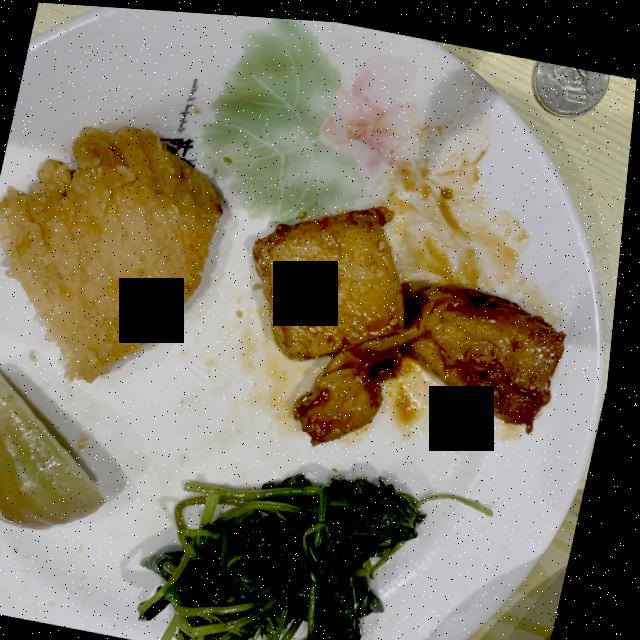coin: (532, 53, 609, 109)
creamy tofu: (256, 200, 570, 439)
fried chicken cutlet: (0, 124, 225, 381)
sweet potato leaves: (148, 469, 434, 640)
